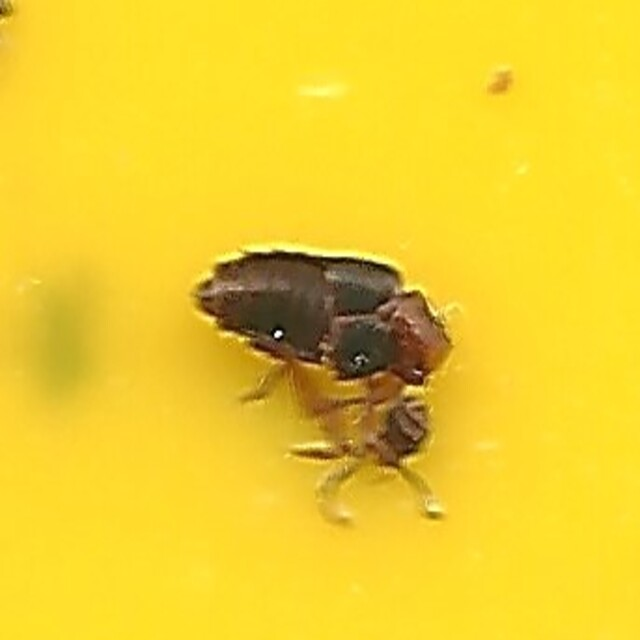Coleoptera: (187, 238, 453, 402)
